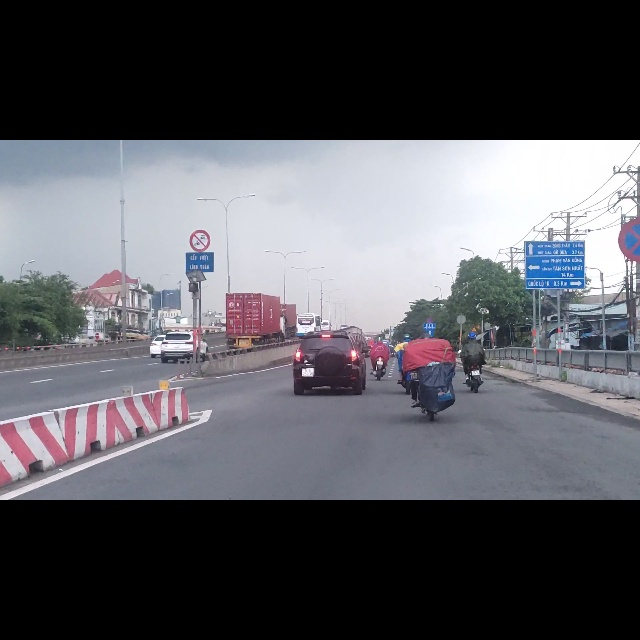bien_cam: (618, 135, 640, 217), (189, 159, 211, 199), (95, 343, 99, 352)
